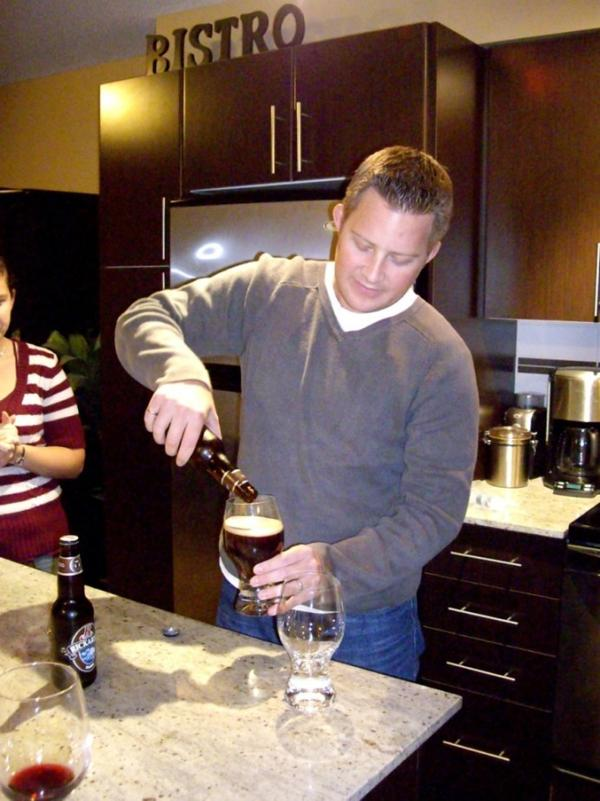person: (115, 144, 482, 681)
